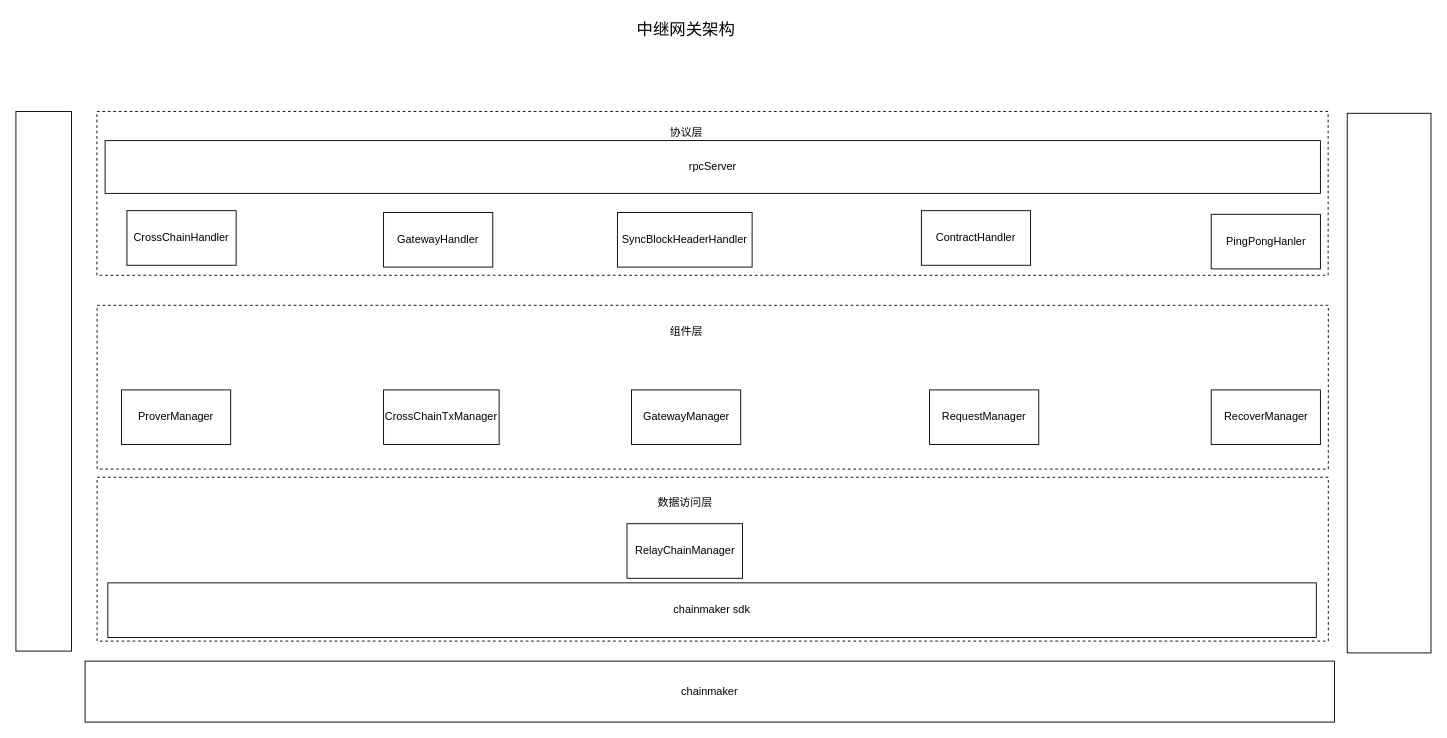
The diagram is 1447 pixels wide and 738 high, and some of its shapes have lost their labels. The centre of each missing label's shape, as x and y in pixels:
"AccesssControl" belongs at [1388,382].
"logger" belongs at [43,381].
